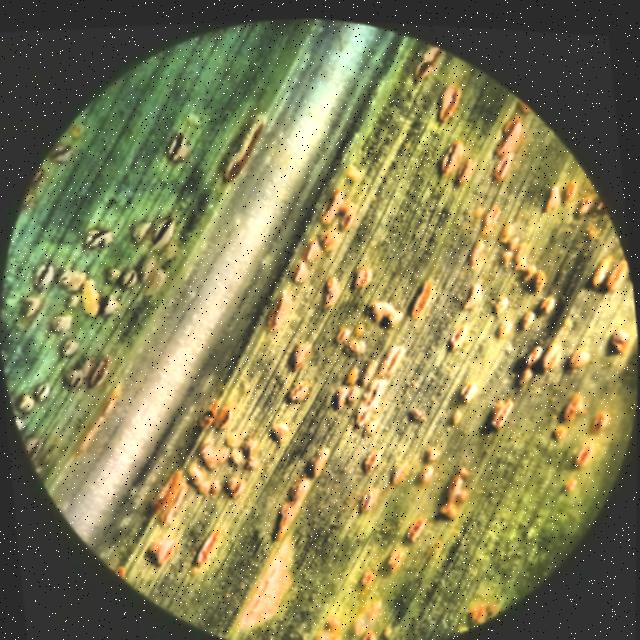common_rust: (18, 72, 610, 585)
